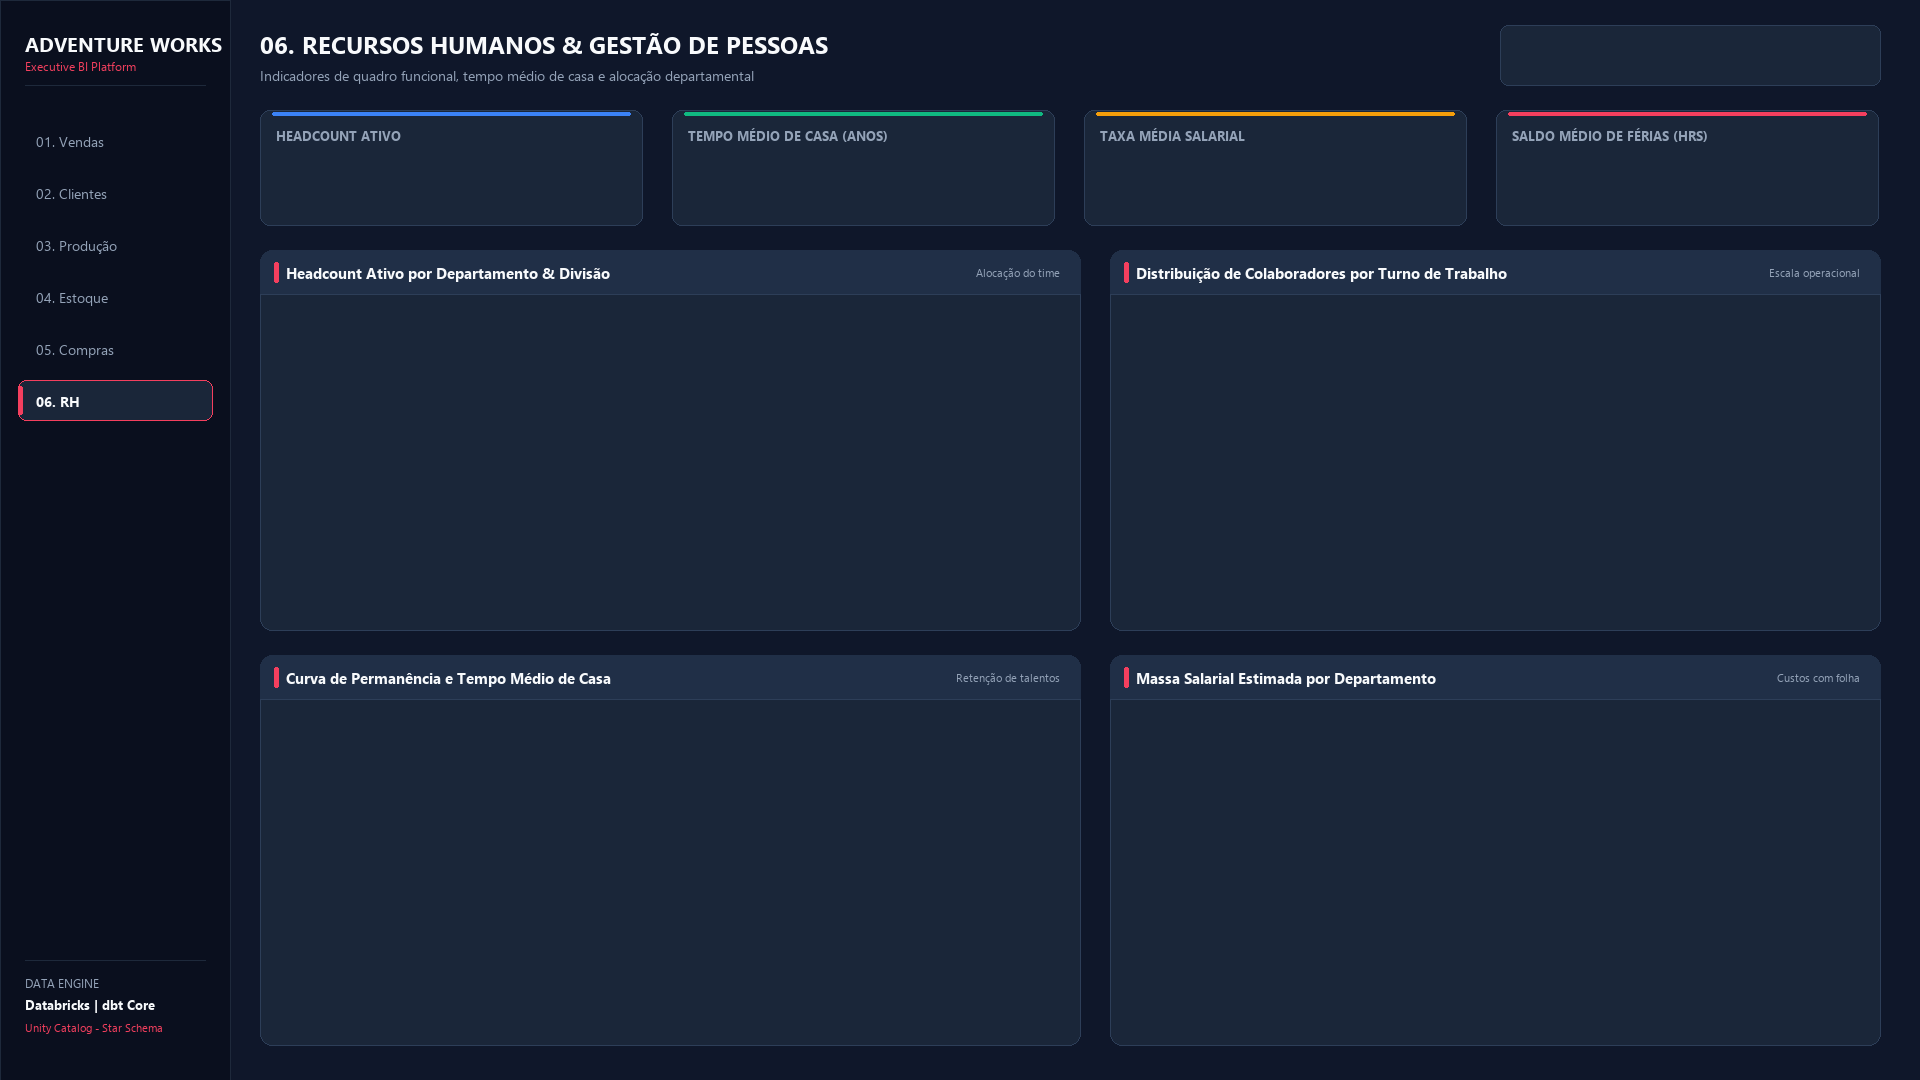

The page's visual inventory and layout, read from the dashboard file:
{"tool":"powerbi","page":{"name":"RH","canvas":[1920,1080],"ordinal":5},"visuals":[{"type":"slicer","fields":{"Values":["dates.calendar_date"]},"box":[1510,35,360,45],"z":0},{"type":"cardVisual","fields":{"Data":["d_Medidas.Headcount Ativo"]},"box":[260,140,380,75],"z":1000},{"type":"cardVisual","fields":{"Data":["d_Medidas.Tempo Médio de Casa (Anos)"]},"box":[670,140,380,75],"z":2000},{"type":"cardVisual","fields":{"Data":["d_Medidas.Taxa Média Salarial"]},"box":[1080,140,380,75],"z":3000},{"type":"cardVisual","fields":{"Data":["d_Medidas.Saldo Médio Horas Férias"]},"box":[1490,140,380,75],"z":4000},{"type":"clusteredBarChart","fields":{"Category":["employees.department_name"],"Y":["d_Medidas.Headcount Ativo"]},"box":[270,298.3,800,320],"z":5000},{"type":"donutChart","fields":{"Category":["employees.shift_name"],"Y":["d_Medidas.Headcount Ativo"]},"box":[1120,298,750,320],"z":6000},{"type":"clusteredColumnChart","fields":{"Category":["employees.department_name"],"Y":["d_Medidas.Tempo Médio de Casa (Anos)"]},"box":[270,702,800,330],"z":7000},{"type":"clusteredBarChart","fields":{"Category":["employees.department_name"],"Y":["d_Medidas.Massa Salarial Estimada"]},"box":[1120,702,750,330],"z":8000}]}

Visuals, with their boxes on the page's 1920x1080 design canvas (x1, y1, x2, y2). These are canvas units, not pixel positions in the 1920x1080 screenshot, which may show the page scaled, cropped or inside an application window:
slicer - dates.calendar_date: bbox=(1510, 35, 1870, 80)
cardVisual - d_Medidas.Headcount Ativo: bbox=(260, 140, 640, 215)
cardVisual - d_Medidas.Tempo Médio de Casa (Anos): bbox=(670, 140, 1050, 215)
cardVisual - d_Medidas.Taxa Média Salarial: bbox=(1080, 140, 1460, 215)
cardVisual - d_Medidas.Saldo Médio Horas Férias: bbox=(1490, 140, 1870, 215)
clusteredBarChart - employees.department_name x d_Medidas.Headcount Ativo: bbox=(270, 298, 1070, 618)
donutChart - employees.shift_name x d_Medidas.Headcount Ativo: bbox=(1120, 298, 1870, 618)
clusteredColumnChart - employees.department_name x d_Medidas.Tempo Médio de Casa (Anos): bbox=(270, 702, 1070, 1032)
clusteredBarChart - employees.department_name x d_Medidas.Massa Salarial Estimada: bbox=(1120, 702, 1870, 1032)
